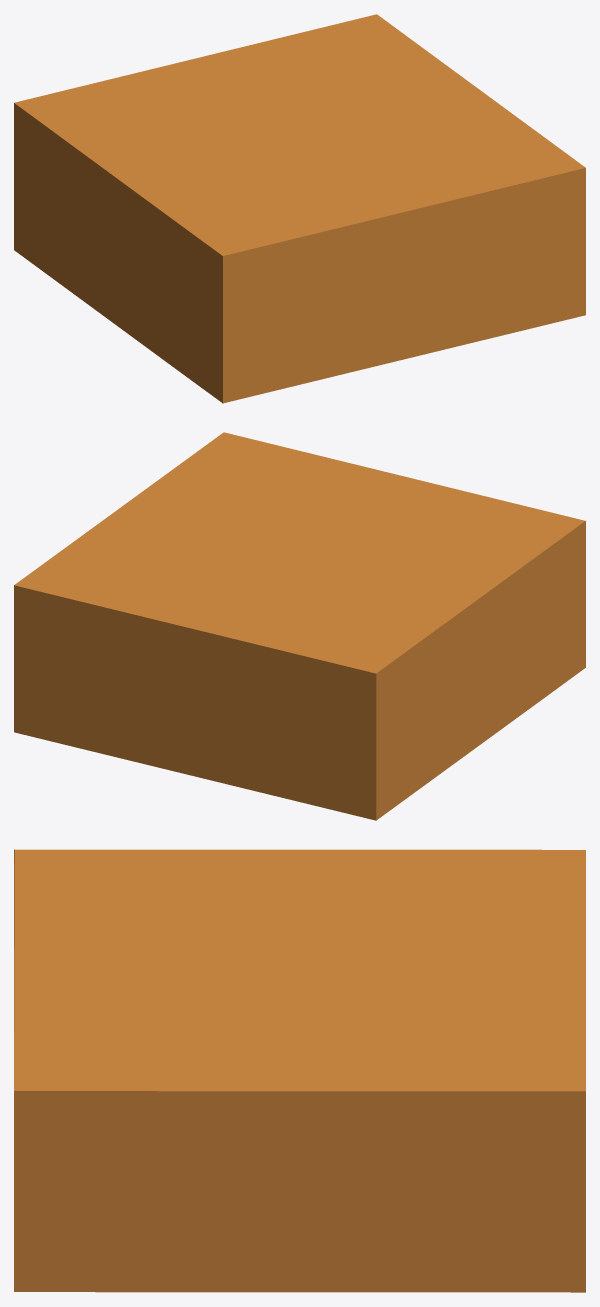
3 views of the same model, one above another, from view 1: azimuth 30°, elevation 25°; view 2: azimuth 150°, elevation 25°; view 3: azimuth 270°, elevation 25° (orthographic). The views are drawn at different scales.
Visible parts, largest first — view 1: CORNER-B-44-p4; view 2: CORNER-B-44-p4; view 3: CORNER-B-44-p4.
Part boxes in pixels (bbox=[...]): CORNER-B-44-p4: bbox=[14, 14, 585, 403]; CORNER-B-44-p4: bbox=[14, 432, 585, 820]; CORNER-B-44-p4: bbox=[14, 849, 585, 1292].
Bounding box in the file's own units: 0.0903 × 0.035 × 0.0903.
